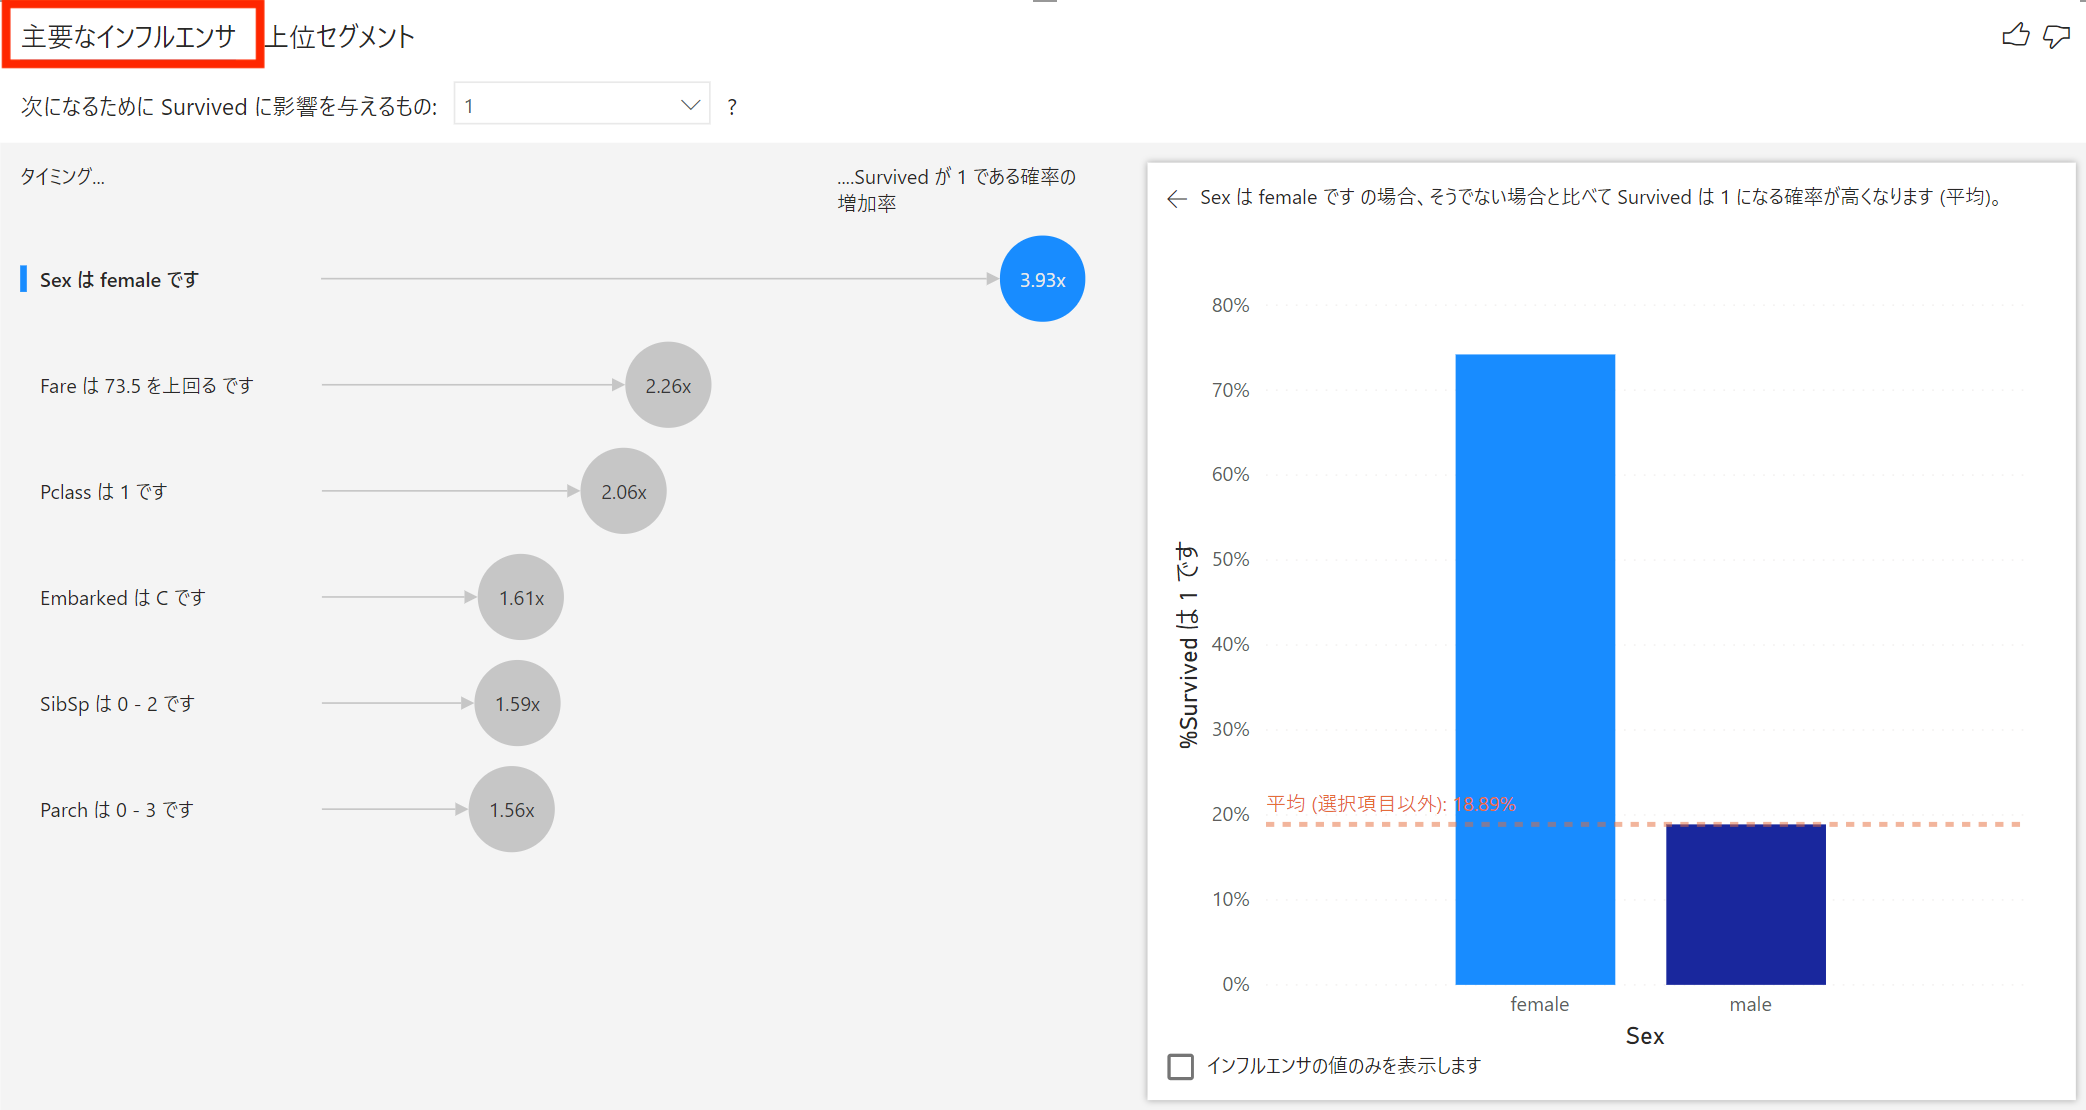

The dashboard page shown, as its layout file describes it:
{"tool":"powerbi","page":{"name":"titanic key-influencers","canvas":[1280,720],"ordinal":0},"visuals":[{"type":"keyDriversVisual","fields":{"Target":["titanic.Survived"],"ExplainBy":["titanic.Age","titanic.Cabin","titanic.Embarked","titanic.Fare","titanic.Parch","Sum(titanic.Pclass)","titanic.Sex","titanic.Ticket"]},"box":[0,0,1280,687.9],"z":1}]}

Visuals, with their boxes on the page's 1280x720 design canvas (x1, y1, x2, y2). These are canvas units, not pixel positions in the 2086x1110 screenshot, which may show the page scaled, cropped or inside an application window:
keyDriversVisual - titanic.Survived x titanic.Age: bbox=(0, 0, 1280, 688)
